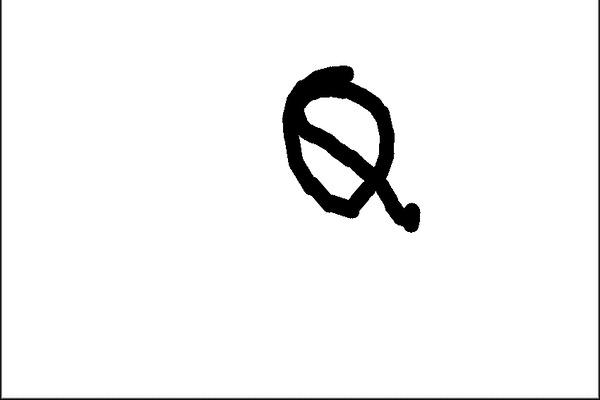Q: (265, 58, 426, 246)
